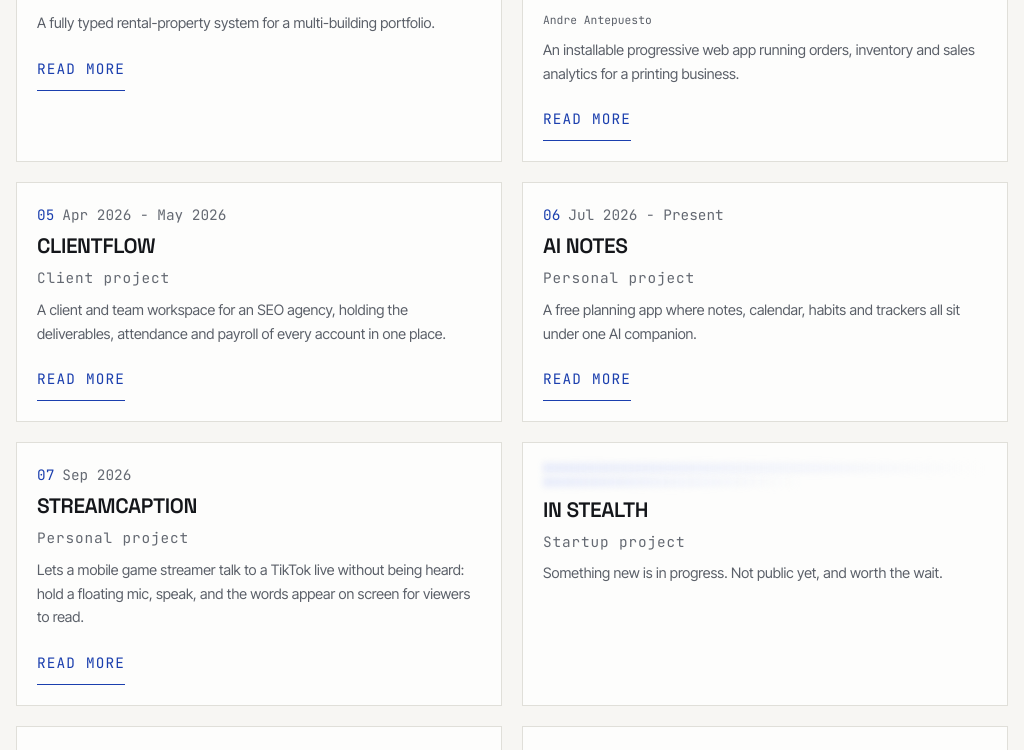
Test case: CyberProjects › opens a card onto its stack, its highlights and its demo
The image size is (1024, 750).
(page scrolled)
Click the button "Read more" below "AI Notes" at (587, 380), box [543, 358, 631, 402]
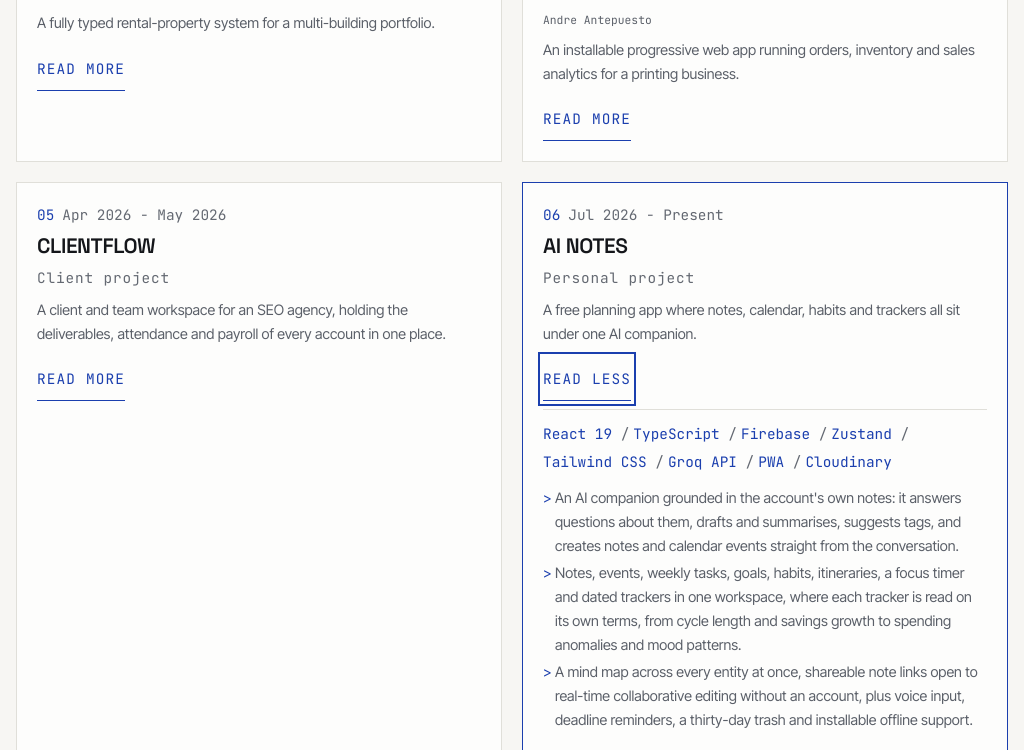
Expected: the list item "React 19" is shown, [543, 422, 629, 446]
Expected: the list item "TypeScript" is shown, [633, 422, 737, 446]
Expected: the list item "Firebase" is shown, [741, 422, 827, 446]
